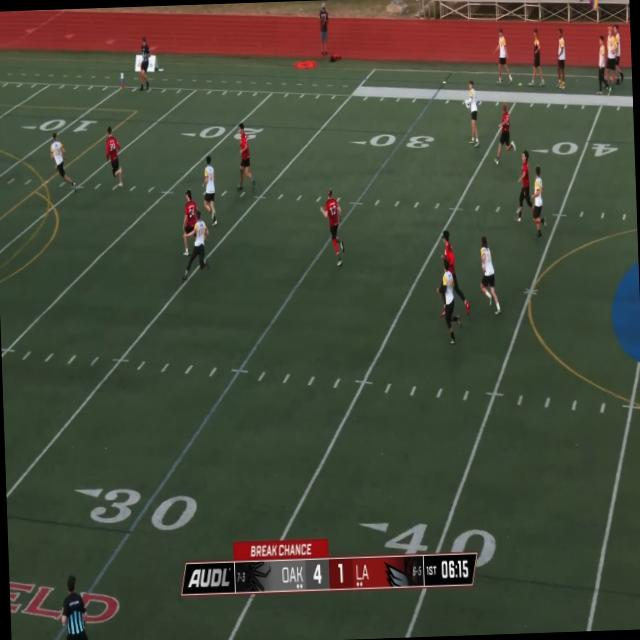Disc: (464, 99, 469, 109)
Player: (45, 568, 106, 640), (437, 256, 461, 344), (476, 235, 499, 316), (182, 212, 209, 278), (234, 125, 258, 196), (323, 188, 344, 266), (513, 152, 533, 225), (48, 133, 72, 191), (530, 166, 548, 240), (494, 104, 516, 163), (180, 188, 199, 256), (463, 80, 481, 148), (106, 130, 124, 192), (200, 161, 217, 225), (136, 34, 154, 91), (441, 230, 458, 283)
